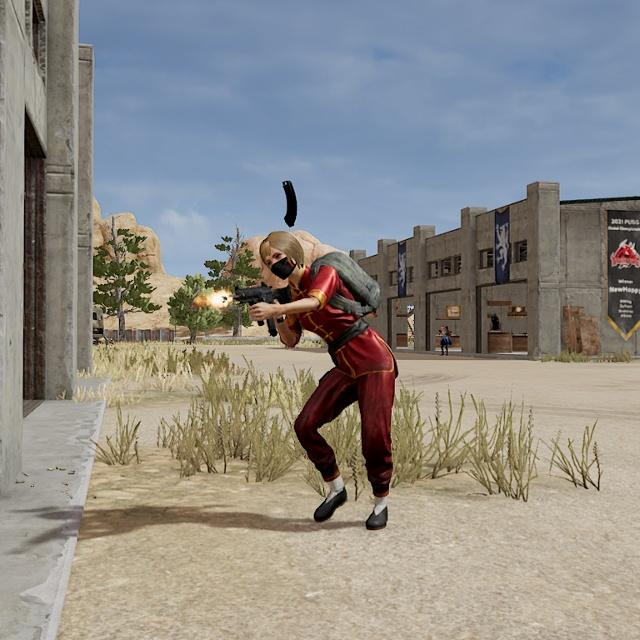head: (255, 226, 310, 285), (440, 324, 447, 333)
people: (249, 224, 409, 534), (437, 320, 455, 359)
